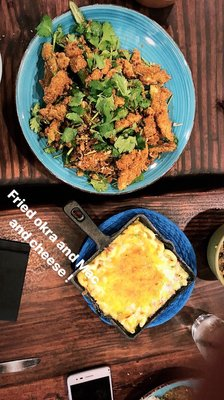sushi: (14, 5, 196, 197)
